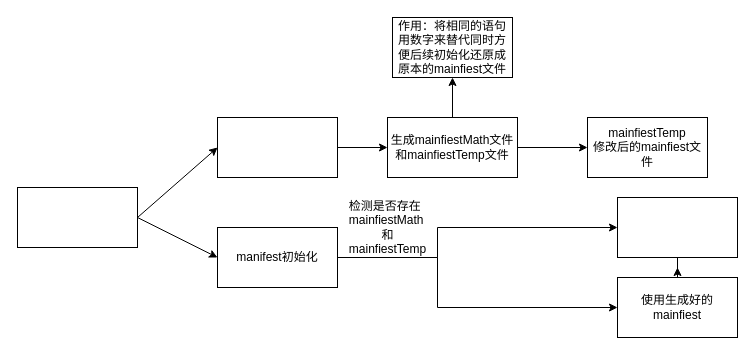
Some shapes in this 755 by 355 pixel diagram are drawn without their labels. Each missing label, with the box of its shape:
manifest优化: (16, 186, 138, 248)
manifest生成: (216, 116, 338, 178)
使用两个文件生成新的mainfiest: (616, 196, 738, 258)
